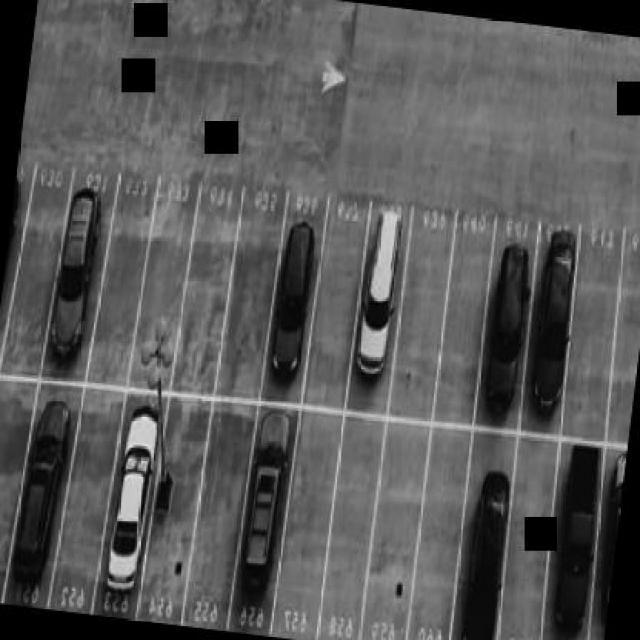car: (350, 216, 408, 393), (109, 411, 160, 591), (267, 212, 316, 388), (20, 400, 68, 574), (237, 438, 288, 598), (481, 260, 534, 411), (552, 460, 600, 609), (463, 475, 506, 640), (534, 228, 576, 390), (598, 468, 624, 614)
free: (54, 183, 109, 352), (398, 233, 452, 384), (414, 475, 460, 640), (285, 457, 333, 614), (72, 408, 125, 547), (326, 470, 372, 624), (372, 465, 416, 621), (500, 481, 546, 630), (228, 220, 274, 368), (570, 264, 616, 412), (147, 222, 190, 370), (15, 200, 60, 340), (196, 438, 237, 580), (156, 438, 198, 576), (100, 208, 136, 356), (318, 248, 360, 372), (450, 242, 488, 373), (614, 251, 640, 420), (196, 228, 230, 338), (0, 418, 23, 577)
